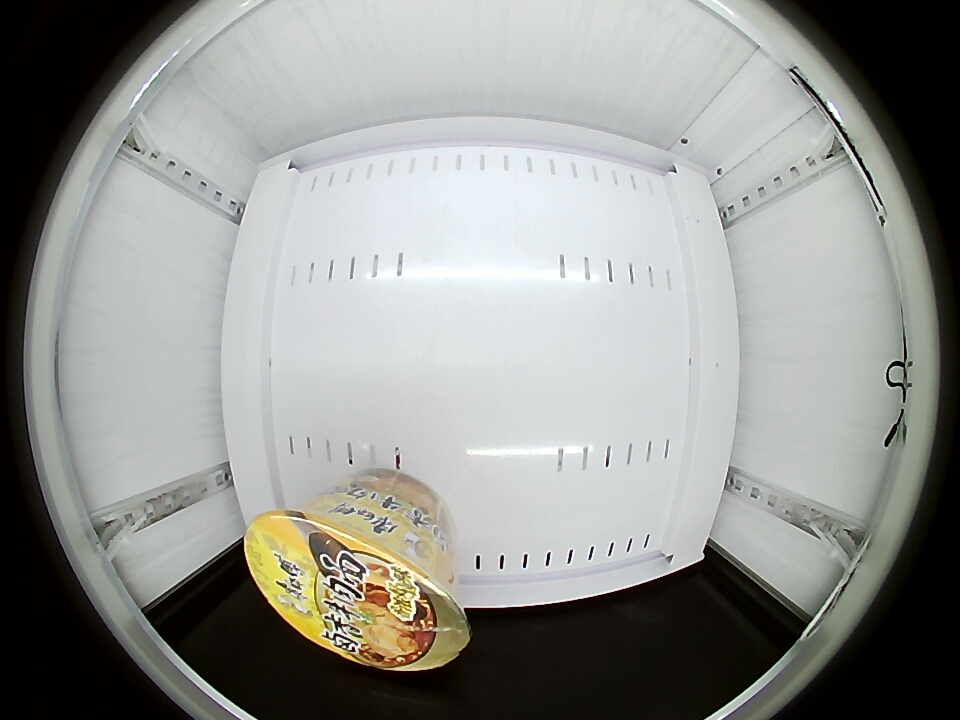luxiangniurou: (244, 503, 467, 671)
